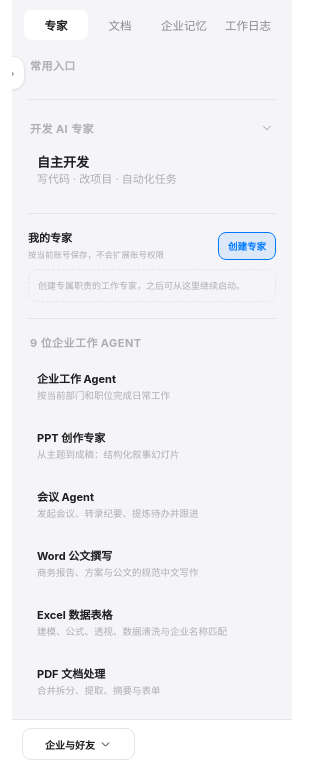
Test: RightPanel fixed Agent catalog › lets enterprise admins publish a curated knowledge entry from the panel
Click the tab "企业记忆" at (184, 25), box [152,10,216,40]
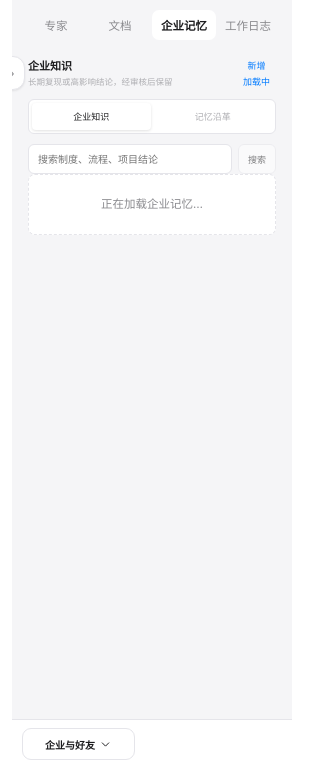
Click the button "新增" at (256, 66), box [242,58,272,73]
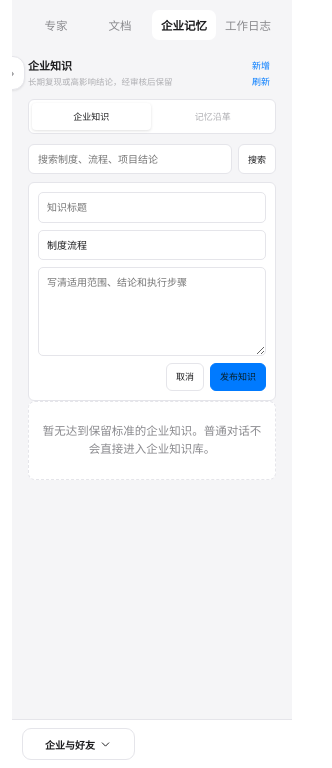
Type "客户交付检查" into the field labelled "知识标题" at (152, 207), box [38,192,266,223]
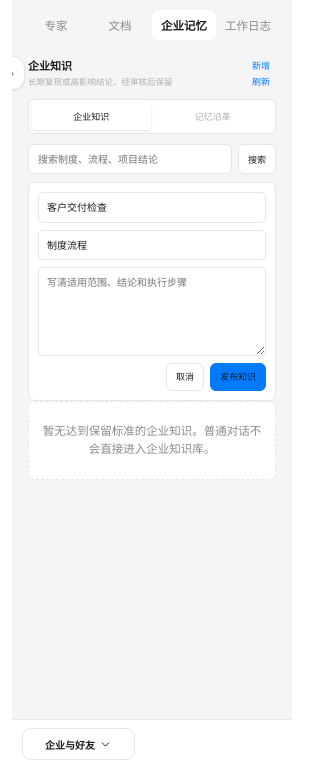
Replace the text in the field named "知识分类" with "交付流程" at (152, 245), box [38,230,266,260]
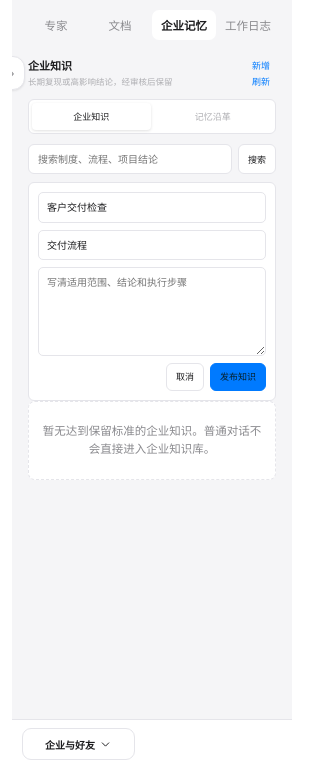
Type "上线前检查备份、监控和回滚方案。" into the text box named "知识内容" at (152, 311), box [38,267,266,356]
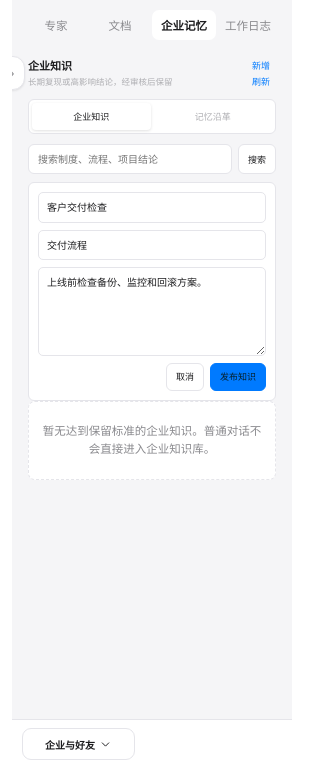
Click the button "发布知识" at (238, 377), box [210,363,266,391]
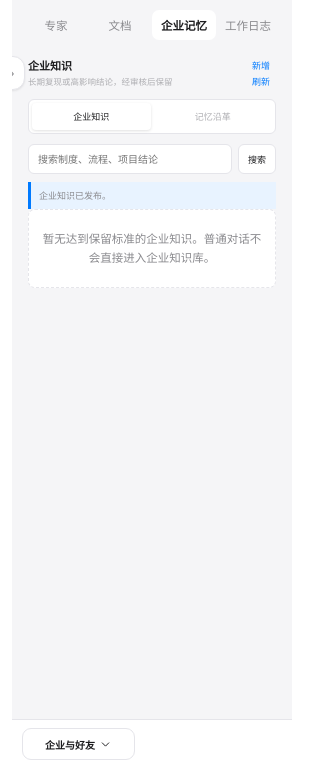
expect the text "企业知识已发布。" is shown: met, box [28,182,276,209]
